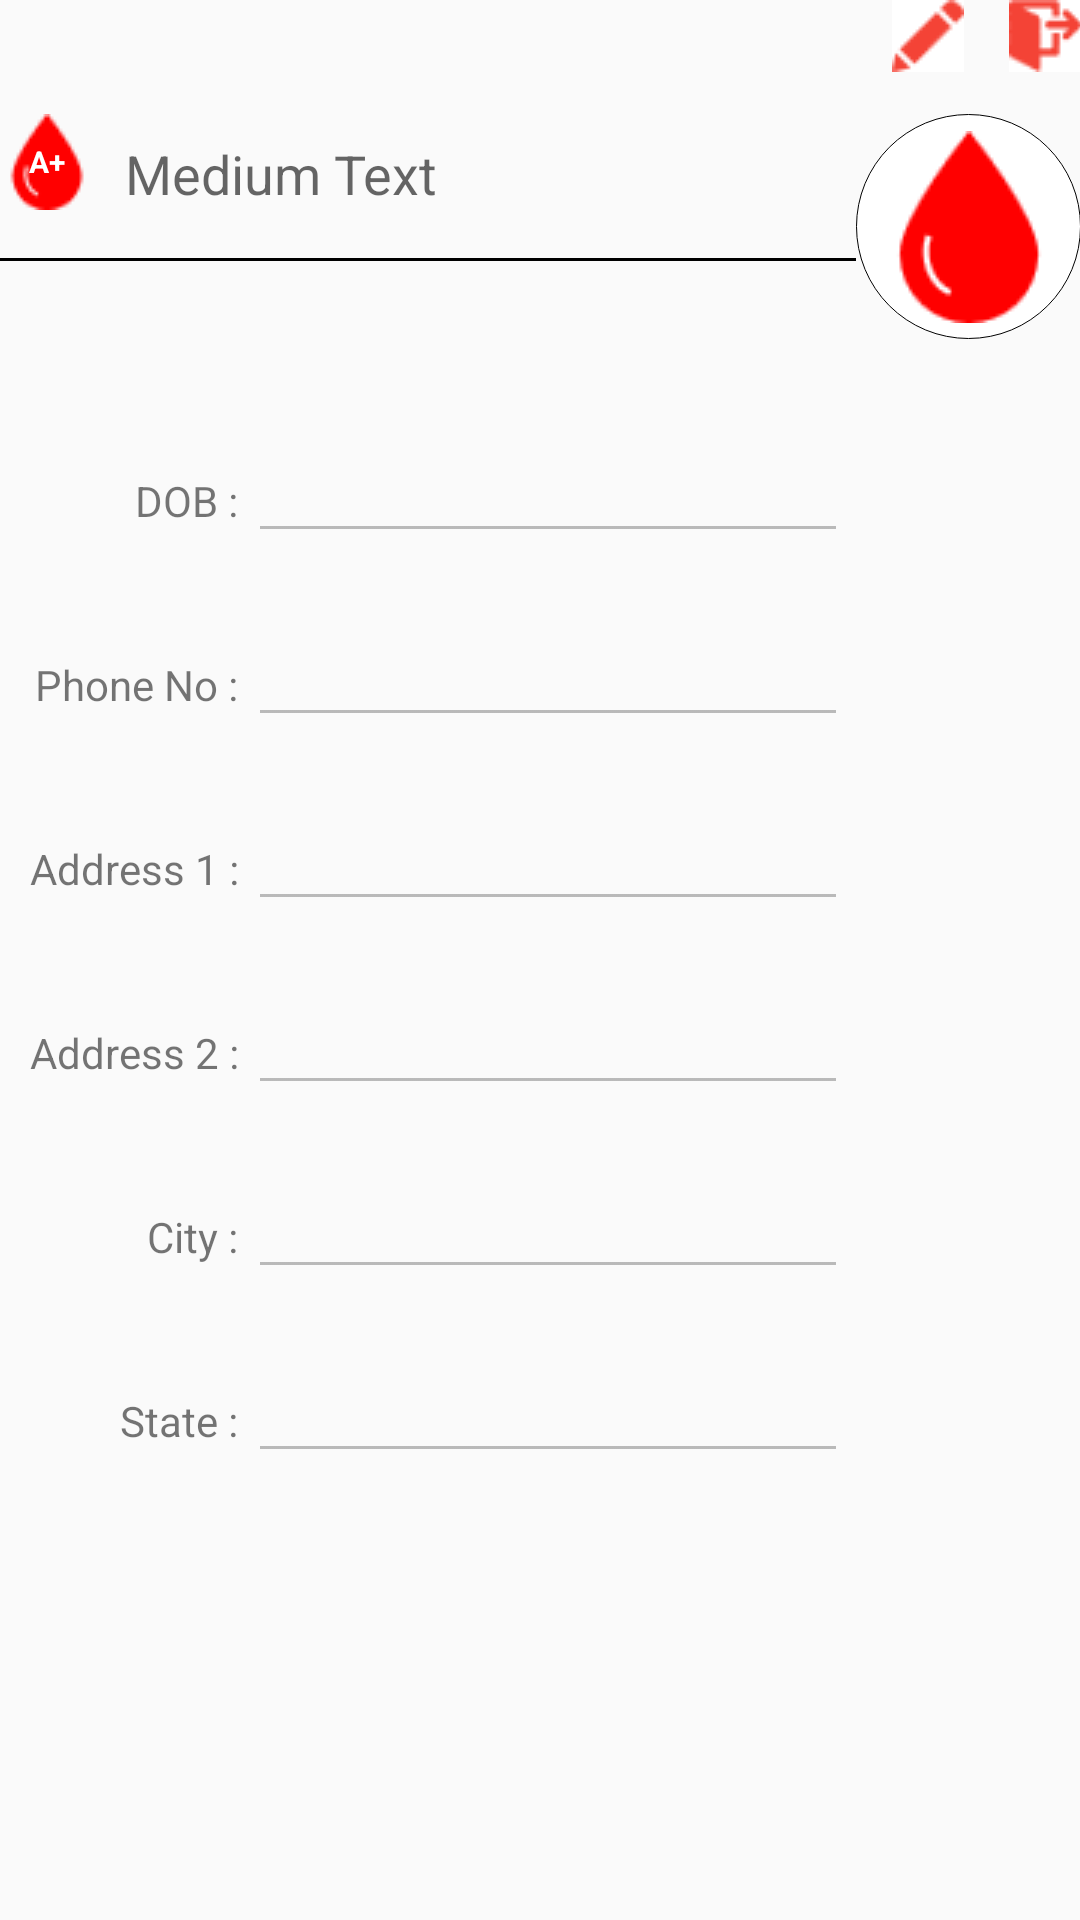

Icon click points for this 1080*1920 phone screenshot, format point (x, y):
blood: point (968, 226)
edit: point (928, 36)
